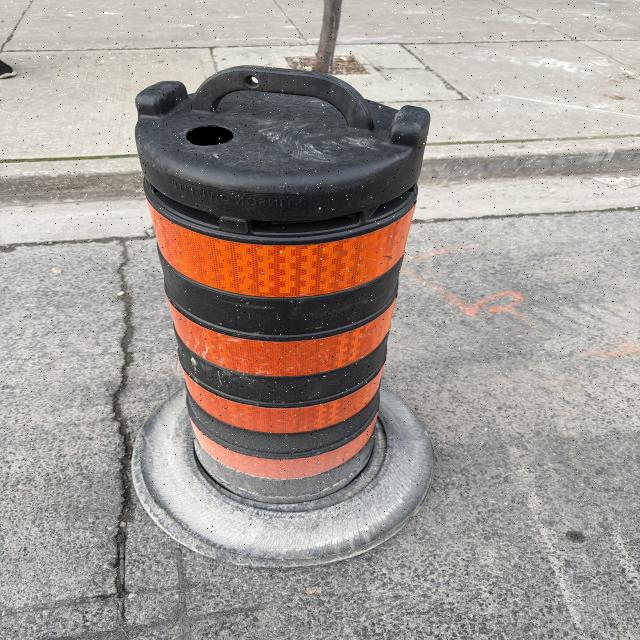Teraffic Barrel: (134, 67, 431, 563)
